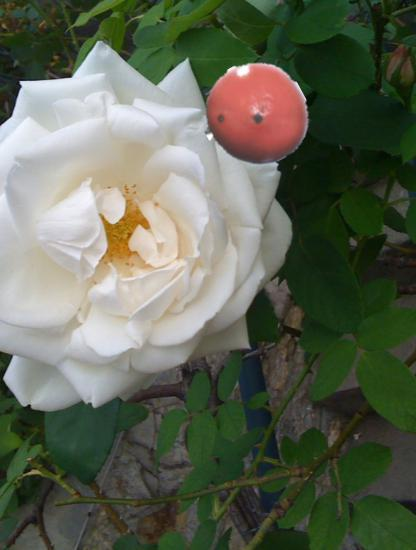Kaki: (202, 62, 308, 168)
